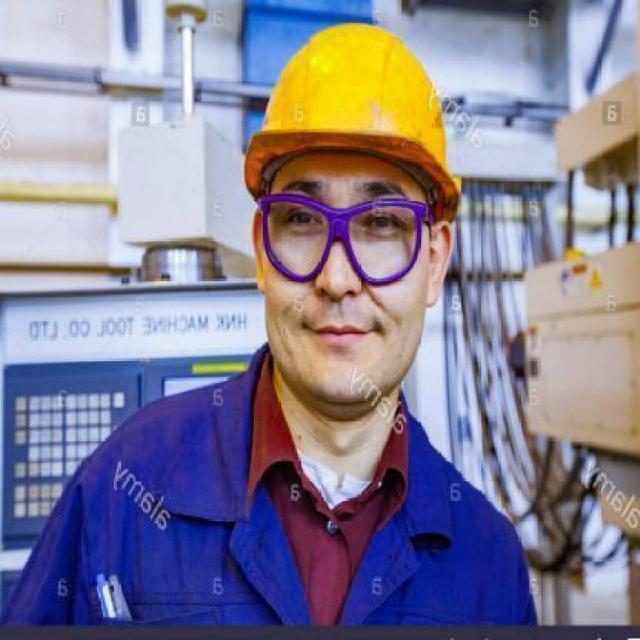face_nomask: (271, 188, 415, 354)
glasses: (256, 196, 435, 286)
head_helmet: (240, 21, 474, 204)
person: (77, 6, 566, 640)
